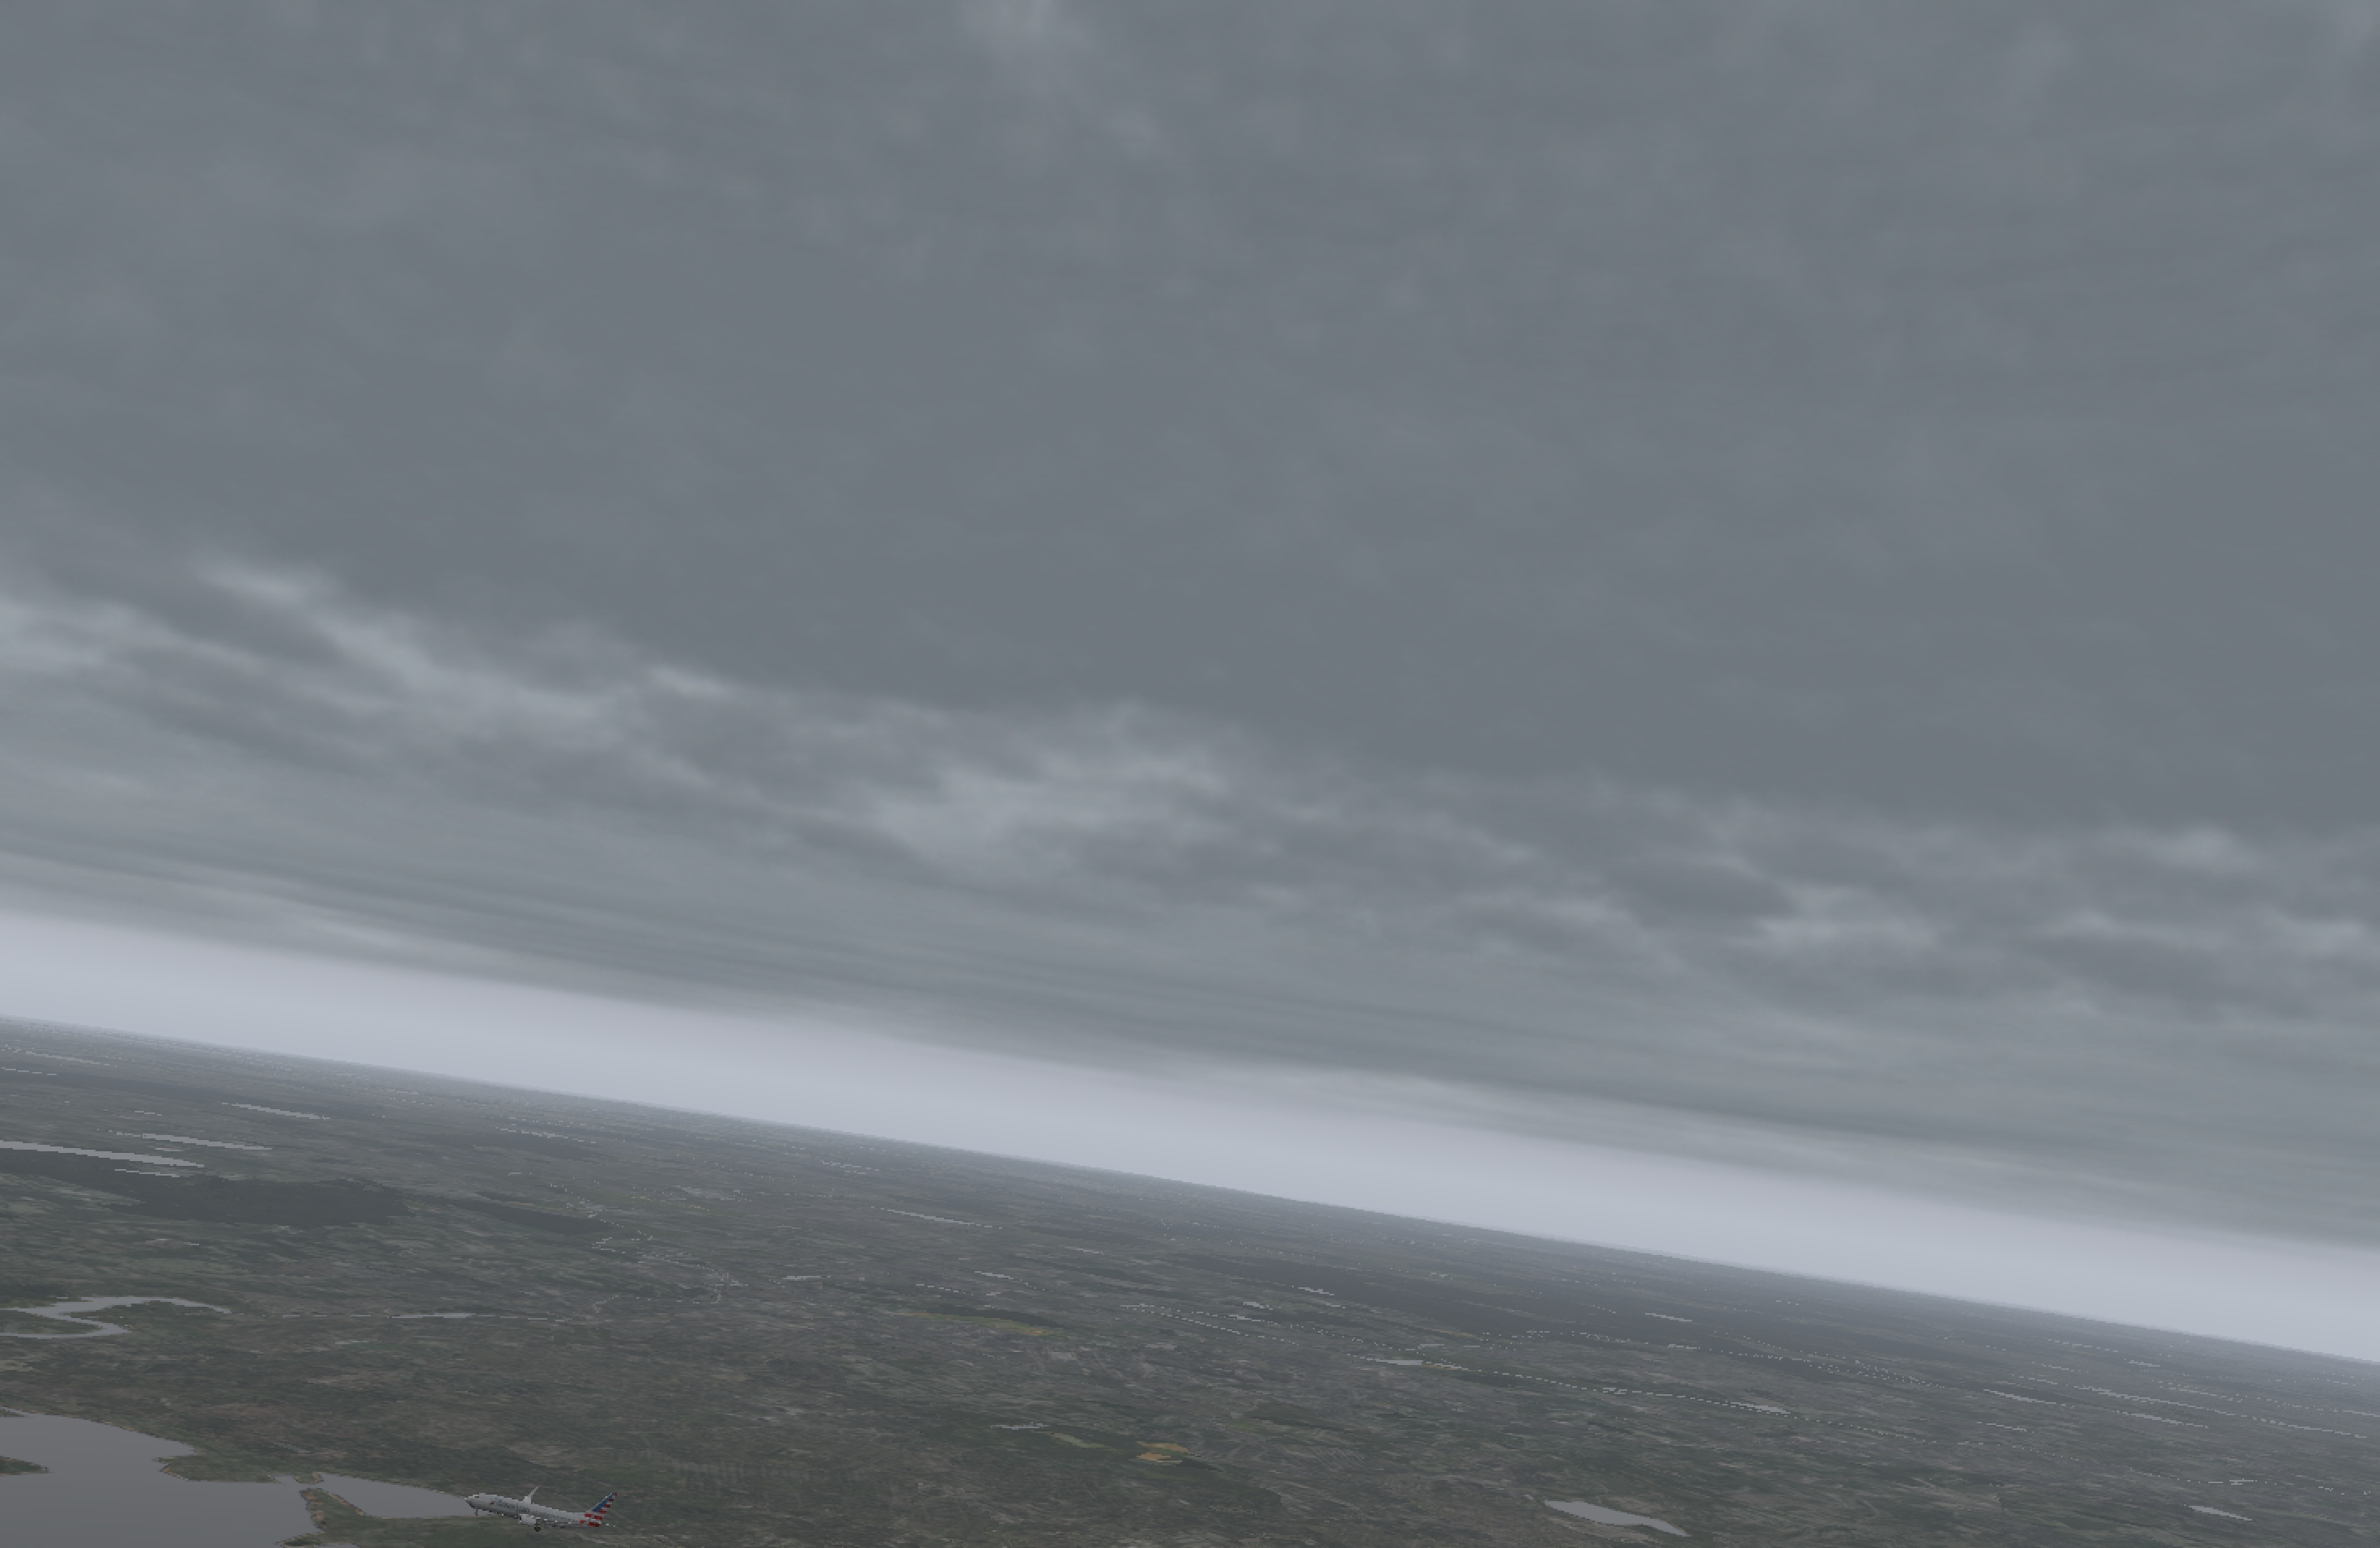aircraft: (460, 1489, 602, 1541)
